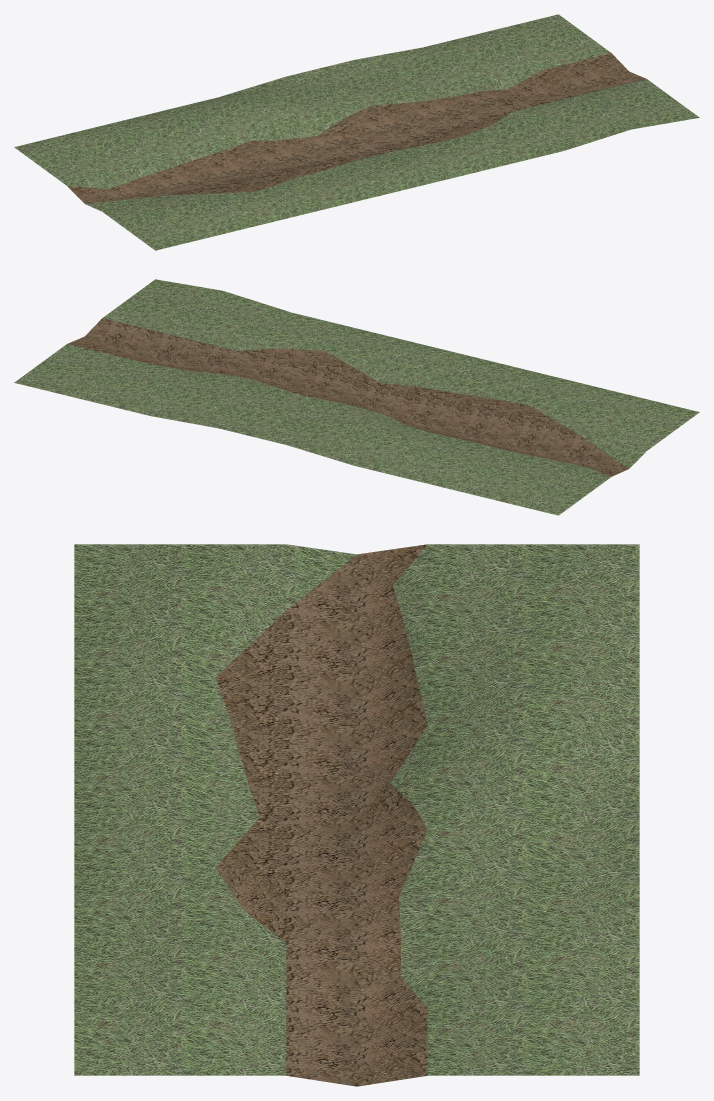
File: testenviron.fbx
The picture shows the model from 3 angles, top to bottom: view 1: azimuth 30°, elevation 25°; view 2: azimuth 150°, elevation 25°; view 3: azimuth 270°, elevation 25°; orthographic projection. The views are drawn at different scales.
Parts seen in each view (by area): view 1: Plane; view 2: Plane; view 3: Plane.
Part boxes in pixels (left/top/right/bottom): Plane: left=14, top=14, right=699, bottom=250; Plane: left=14, top=279, right=699, bottom=515; Plane: left=74, top=544, right=639, bottom=1086.
Bounding box in the file's own units: 1458 × 57.33 × 656.
